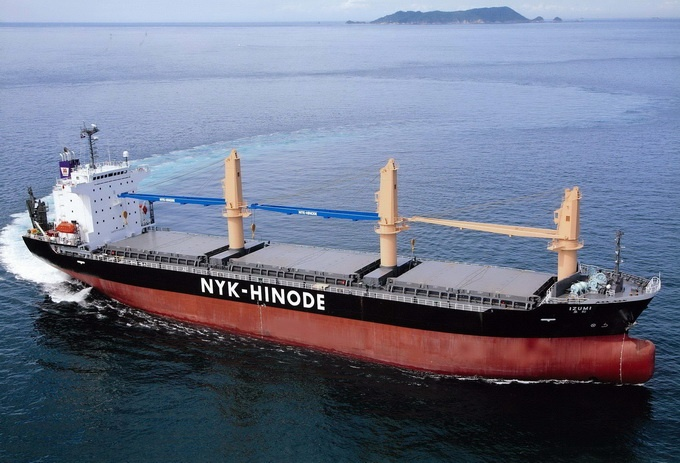Cargoship: (22, 123, 661, 388)
